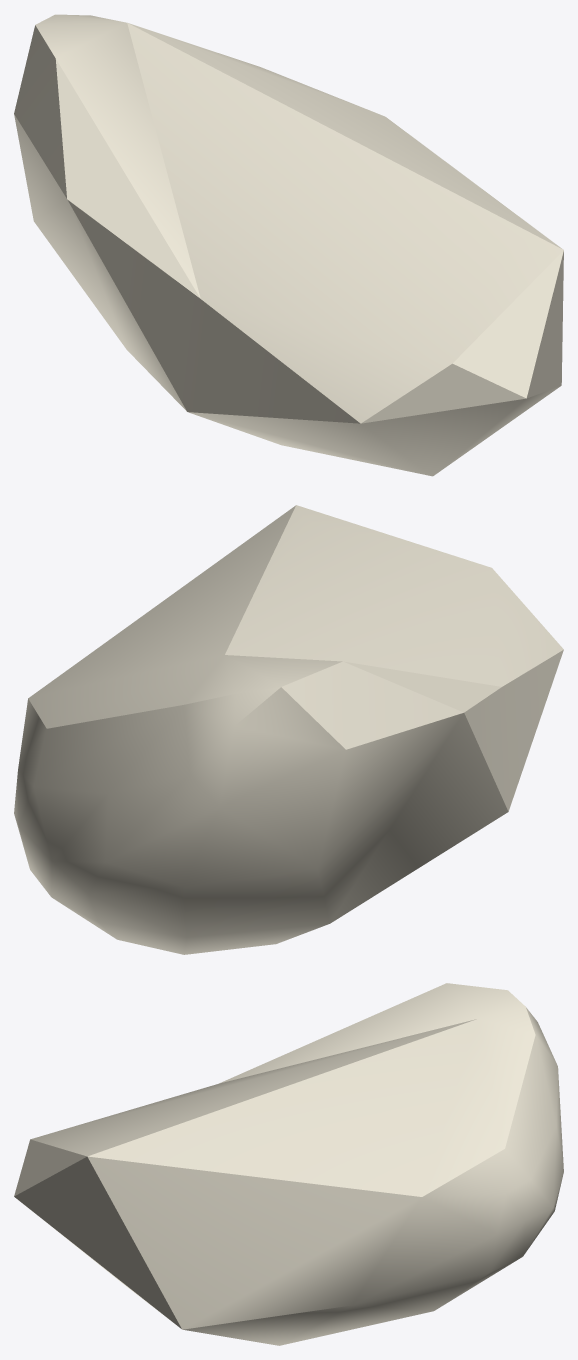
File: fma45098_fj6381.glb
The picture shows the model from 3 angles, top to bottom: view 1: azimuth 30°, elevation 25°; view 2: azimuth 150°, elevation 25°; view 3: azimuth 270°, elevation 25°; orthographic projection. The views are drawn at different scales.
Parts seen in each view (by area): view 1: FMA45098_FJ6381; view 2: FMA45098_FJ6381; view 3: FMA45098_FJ6381.
Boxes of the visible parts, bbox=[...] form: FMA45098_FJ6381: bbox=[14, 14, 563, 476]; FMA45098_FJ6381: bbox=[14, 505, 563, 954]; FMA45098_FJ6381: bbox=[14, 983, 563, 1345].
Bounding box in the file's own units: 0.00822 × 0.00704 × 0.0131.
